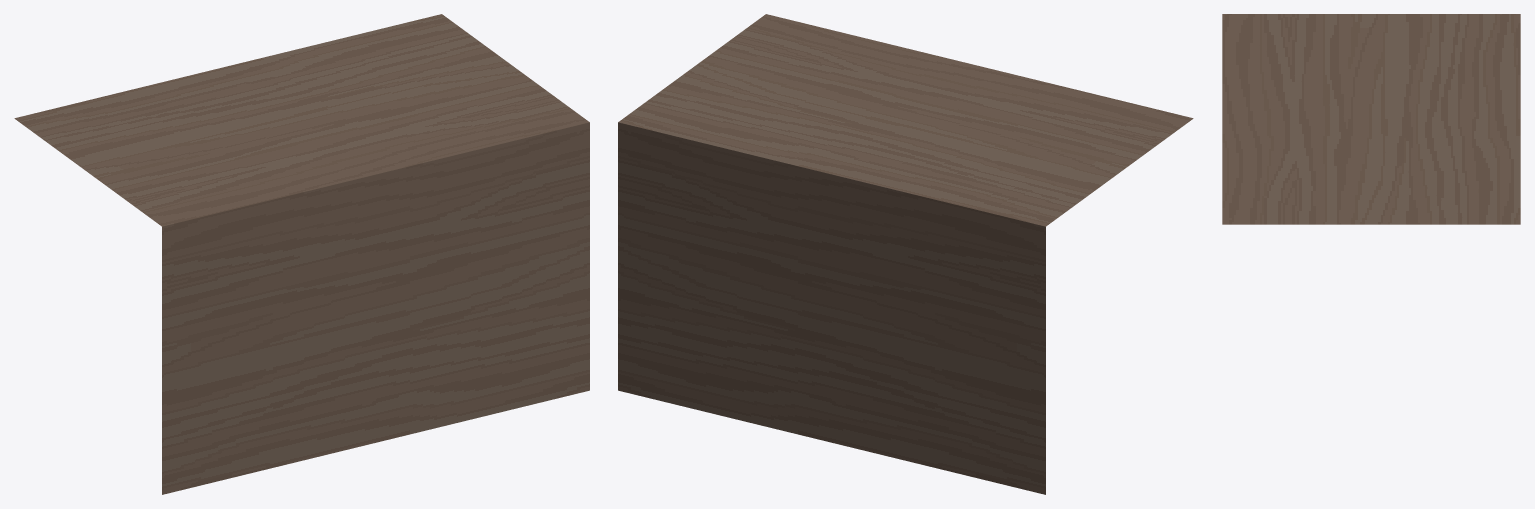
File: kd_stage_135b75_4_157_bounded.glb
3 views of the same model, side by side, from view 1: azimuth 30°, elevation 25°; view 2: azimuth 150°, elevation 25°; view 3: azimuth 270°, elevation 25° (orthographic).
Parts seen in each view (by area): view 1: kd_stage_135b75_4_157_bounded; view 2: kd_stage_135b75_4_157_bounded; view 3: kd_stage_135b75_4_157_bounded.
Part boxes in pixels (bbox=[...]): kd_stage_135b75_4_157_bounded: bbox=[14, 14, 589, 494]; kd_stage_135b75_4_157_bounded: bbox=[618, 14, 1193, 494]; kd_stage_135b75_4_157_bounded: bbox=[1222, 14, 1520, 224].
Bounding box in the file's own units: 0.2627 × 0.1574 × 0.1574.
1 material, 1 textured.
